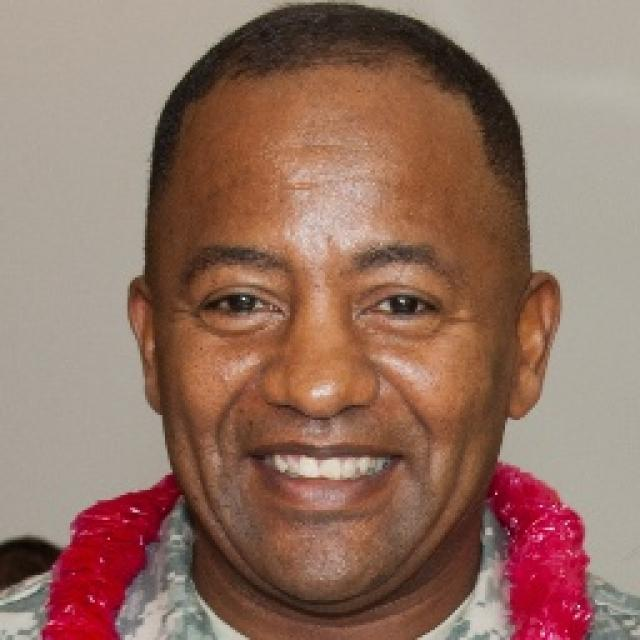earlobe: (507, 271, 560, 422), (126, 272, 162, 414)
